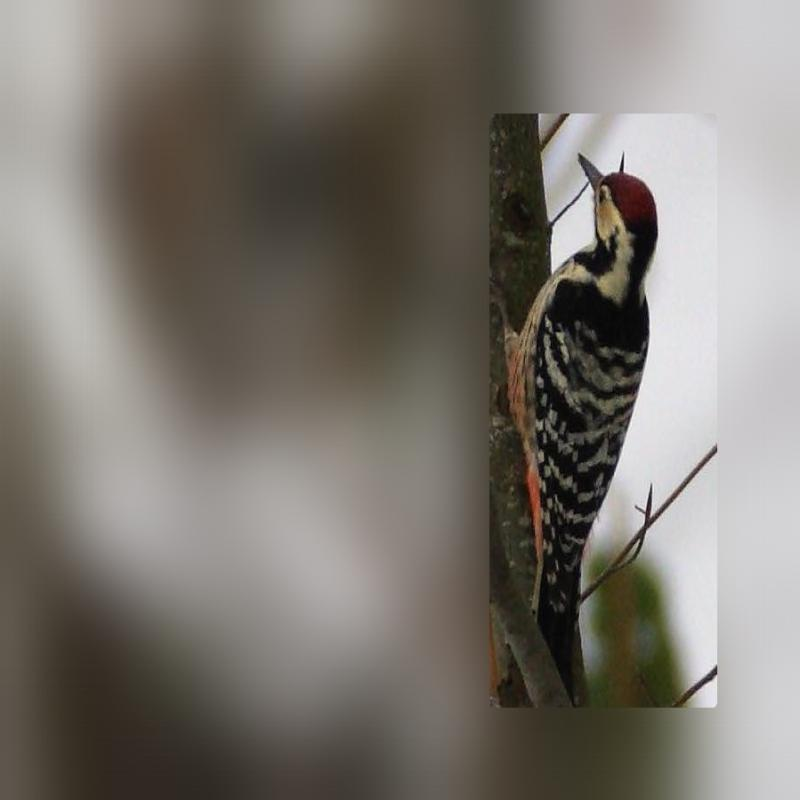white-backed woodpecker: (490, 139, 683, 686)
